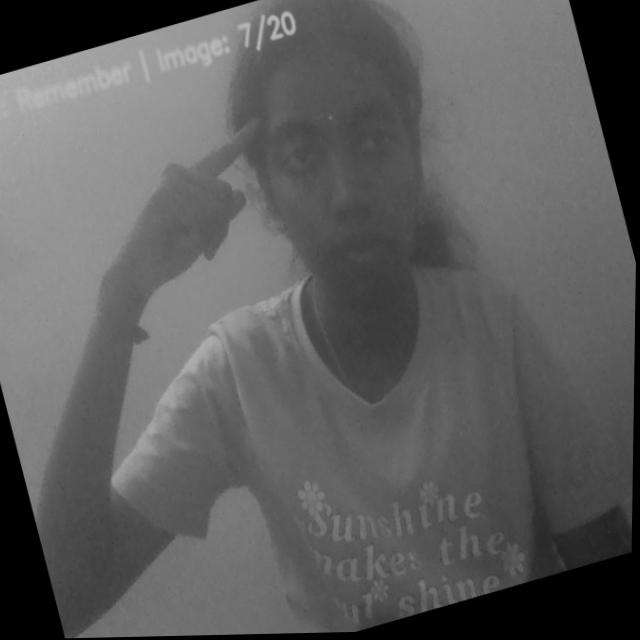Remember: (54, 112, 304, 333)
